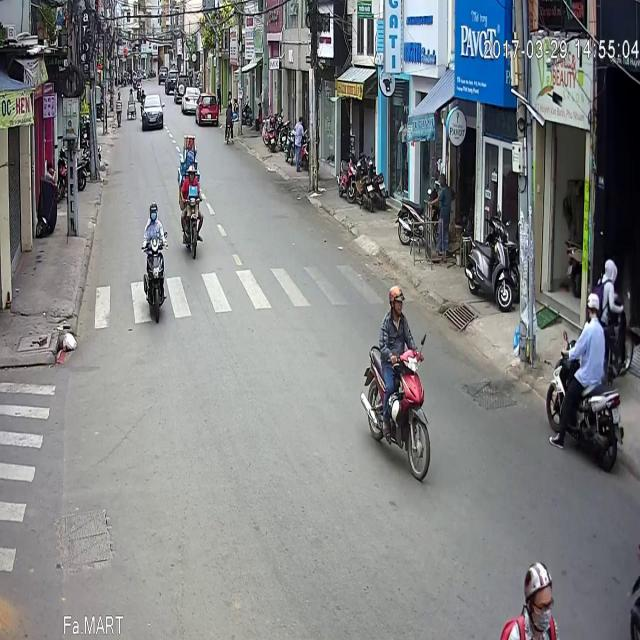bicycle: (224, 41, 234, 87)
car: (142, 35, 164, 72), (196, 34, 218, 68)
motorcycle: (544, 234, 628, 413), (359, 226, 433, 424), (141, 140, 168, 266), (178, 106, 202, 202)
